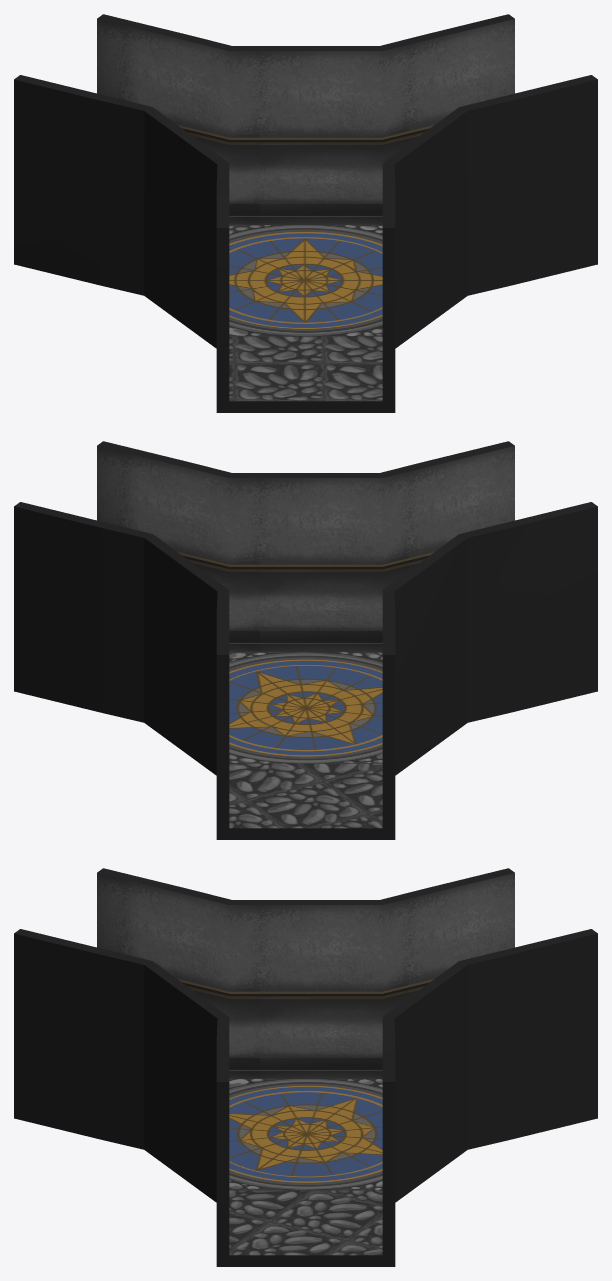
The model's file is junction_3e.fbx.
The picture shows the model from 3 angles, top to bottom: view 1: azimuth 30°, elevation 25°; view 2: azimuth 150°, elevation 25°; view 3: azimuth 270°, elevation 25°; orthographic projection.
Visible parts, largest first — view 1: junction_3e; view 2: junction_3e; view 3: junction_3e.
Boxes of the visible parts, x1,y1,x2,y2 form: junction_3e: [14, 14, 597, 412]; junction_3e: [14, 441, 597, 839]; junction_3e: [14, 868, 597, 1266].
Bounding box in the file's own units: 3965 × 1600 × 4578.
